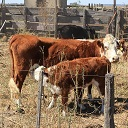vaca: (9, 27, 119, 103), (30, 59, 115, 115)
